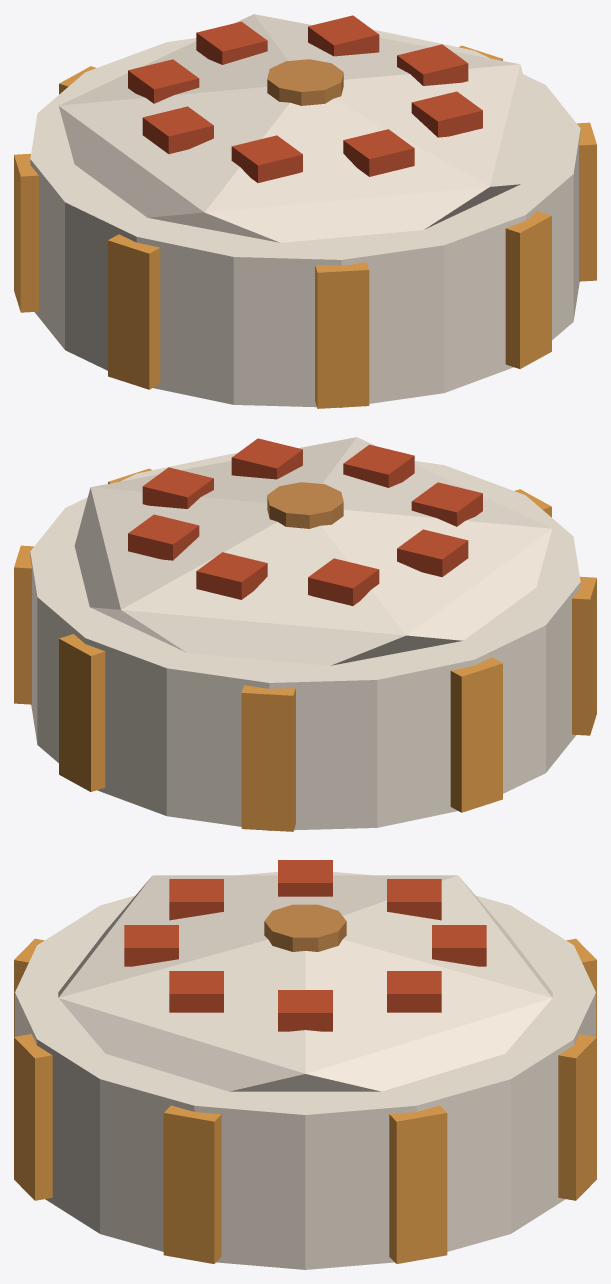
Rendered from CatCafe_Decor_CosyKnitCushion.glb.
3 renders of one model, top to bottom at view 1: azimuth 30°, elevation 25°; view 2: azimuth 150°, elevation 25°; view 3: azimuth 270°, elevation 25°, orthographic. The views are drawn at different scales.
Visible parts, largest first — view 1: CatCafe_Decor_CosyKnitCushion; view 2: CatCafe_Decor_CosyKnitCushion; view 3: CatCafe_Decor_CosyKnitCushion.
Boxes of the visible parts, bbox=[...] form: CatCafe_Decor_CosyKnitCushion: bbox=[14, 14, 596, 408]; CatCafe_Decor_CosyKnitCushion: bbox=[14, 437, 596, 831]; CatCafe_Decor_CosyKnitCushion: bbox=[14, 860, 596, 1269].
Size of the model in its own units: 1.71 by 0.73 by 1.71.
1 material, 1 textured.
